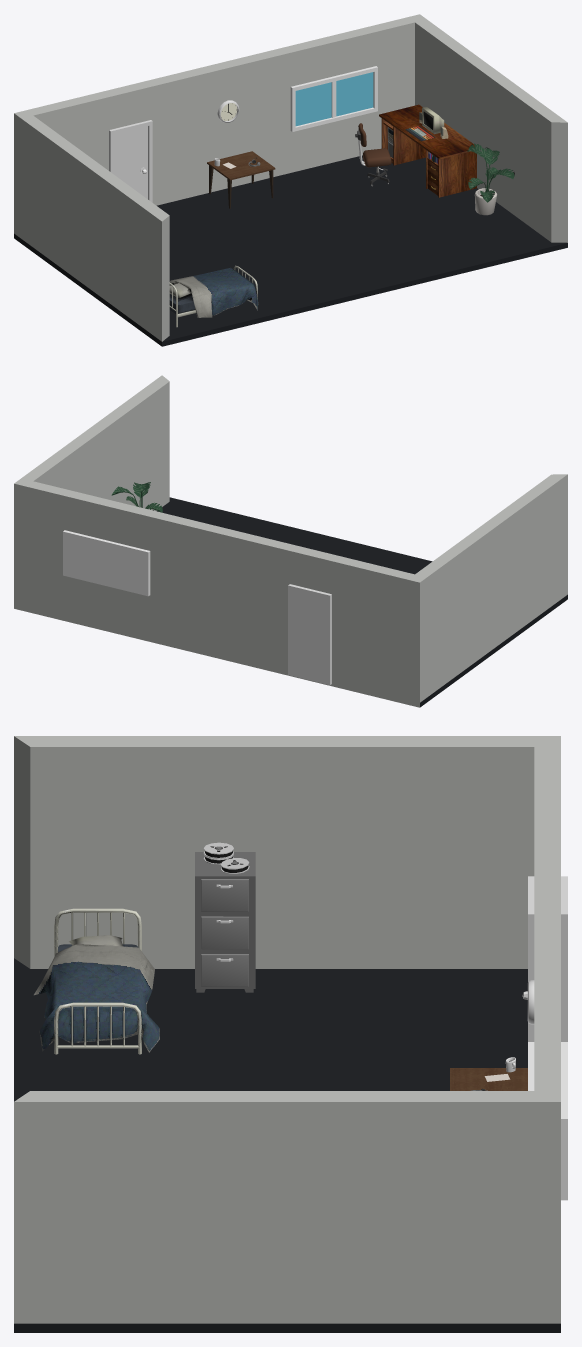
The model's file is intentoo1.glb.
3 views of the same model, one above another, from view 1: azimuth 30°, elevation 25°; view 2: azimuth 150°, elevation 25°; view 3: azimuth 270°, elevation 25° (orthographic). The views are drawn at different scales.
Visible parts, largest first — view 1: Object_5, Object_3, table_0, BedLow_0, Object_6, Object_2, Object_7, Cube.020, Cylinder.003, Cube.004, Object_4, monitor_2; view 2: Object_5, Object_3, Object_7, Object_4, Cylinder.003; view 3: Object_5, Object_3, BedLow_0, Cube.003, Object_4, Cube.020, Object_7.
Part boxes in pixels (<box>): Object_5: <box>14,14,567,341</box>; Object_3: <box>14,155,567,346</box>; table_0: <box>379,104,476,197</box>; BedLow_0: <box>169,265,258,327</box>; Object_6: <box>295,72,373,126</box>; Object_2: <box>114,126,147,198</box>; Object_7: <box>140,66,377,173</box>; Cube.020: <box>207,151,275,208</box>; Cylinder.003: <box>467,143,514,215</box>; Cube.004: <box>355,123,391,186</box>; Object_4: <box>109,120,152,202</box>; monitor_2: <box>422,107,444,134</box>; Object_5: <box>14,375,567,707</box>; Object_3: <box>157,497,567,707</box>; Object_7: <box>63,530,150,596</box>; Object_4: <box>288,584,331,684</box>; Cylinder.003: <box>111,482,162,512</box>; Object_5: <box>14,736,560,1323</box>; Object_3: <box>14,958,560,1332</box>; BedLow_0: <box>34,908,159,1054</box>; Cube.003: <box>195,852,255,992</box>; Object_4: <box>528,876,567,1041</box>; Cube.020: <box>450,1068,527,1090</box>; Object_7: <box>522,991,567,1200</box>.
Size of the model in its own units: 21.2 by 6.25 by 13.57.
38 materials, 13 textured.
